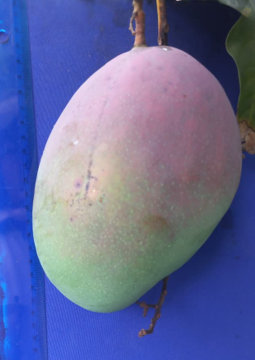Mango-sano: (32, 11, 241, 312)
